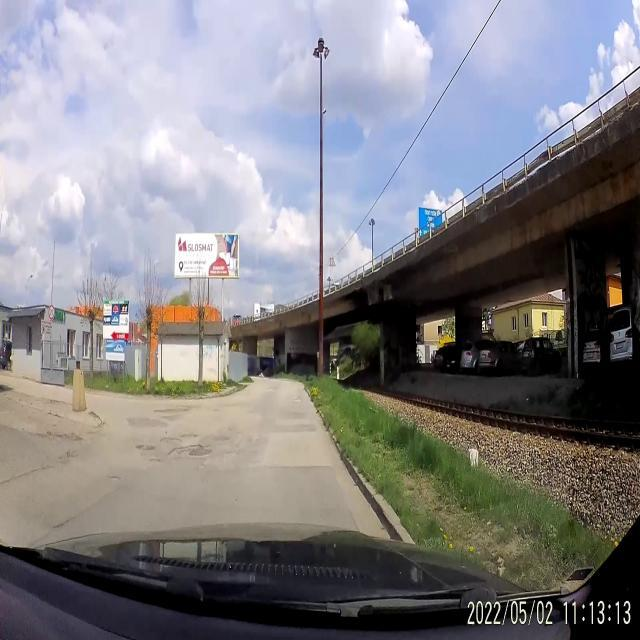Pothole: (166, 430, 216, 465), (136, 437, 166, 473), (154, 400, 192, 427), (106, 467, 124, 492)
